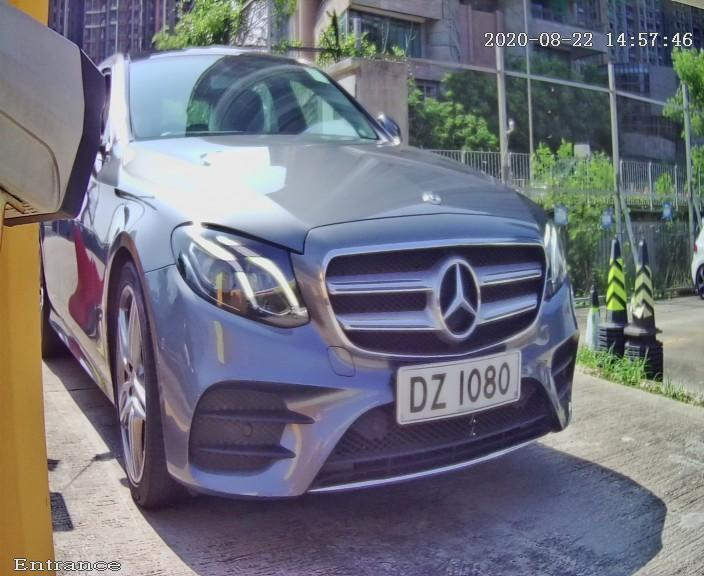Car: (16, 3, 629, 556)
License Plate: (368, 332, 536, 451)
